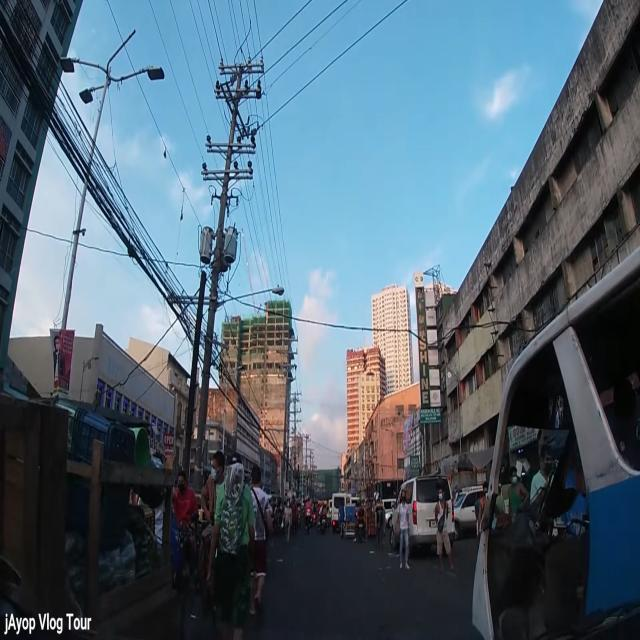bike: (304, 498, 313, 536)
car: (390, 473, 456, 556), (454, 486, 484, 538)
motorcycle: (292, 497, 300, 538), (356, 506, 364, 544), (322, 500, 328, 535)
tricycle: (471, 243, 640, 640), (338, 502, 358, 540)
truck: (331, 494, 352, 534)
